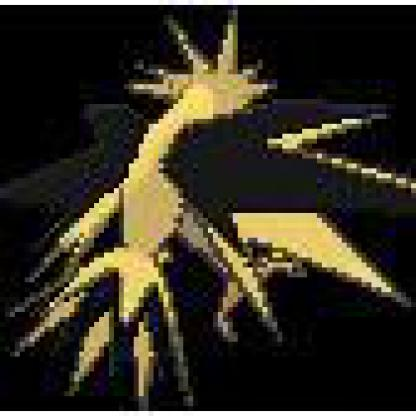Zapdos: (1, 1, 412, 412)
